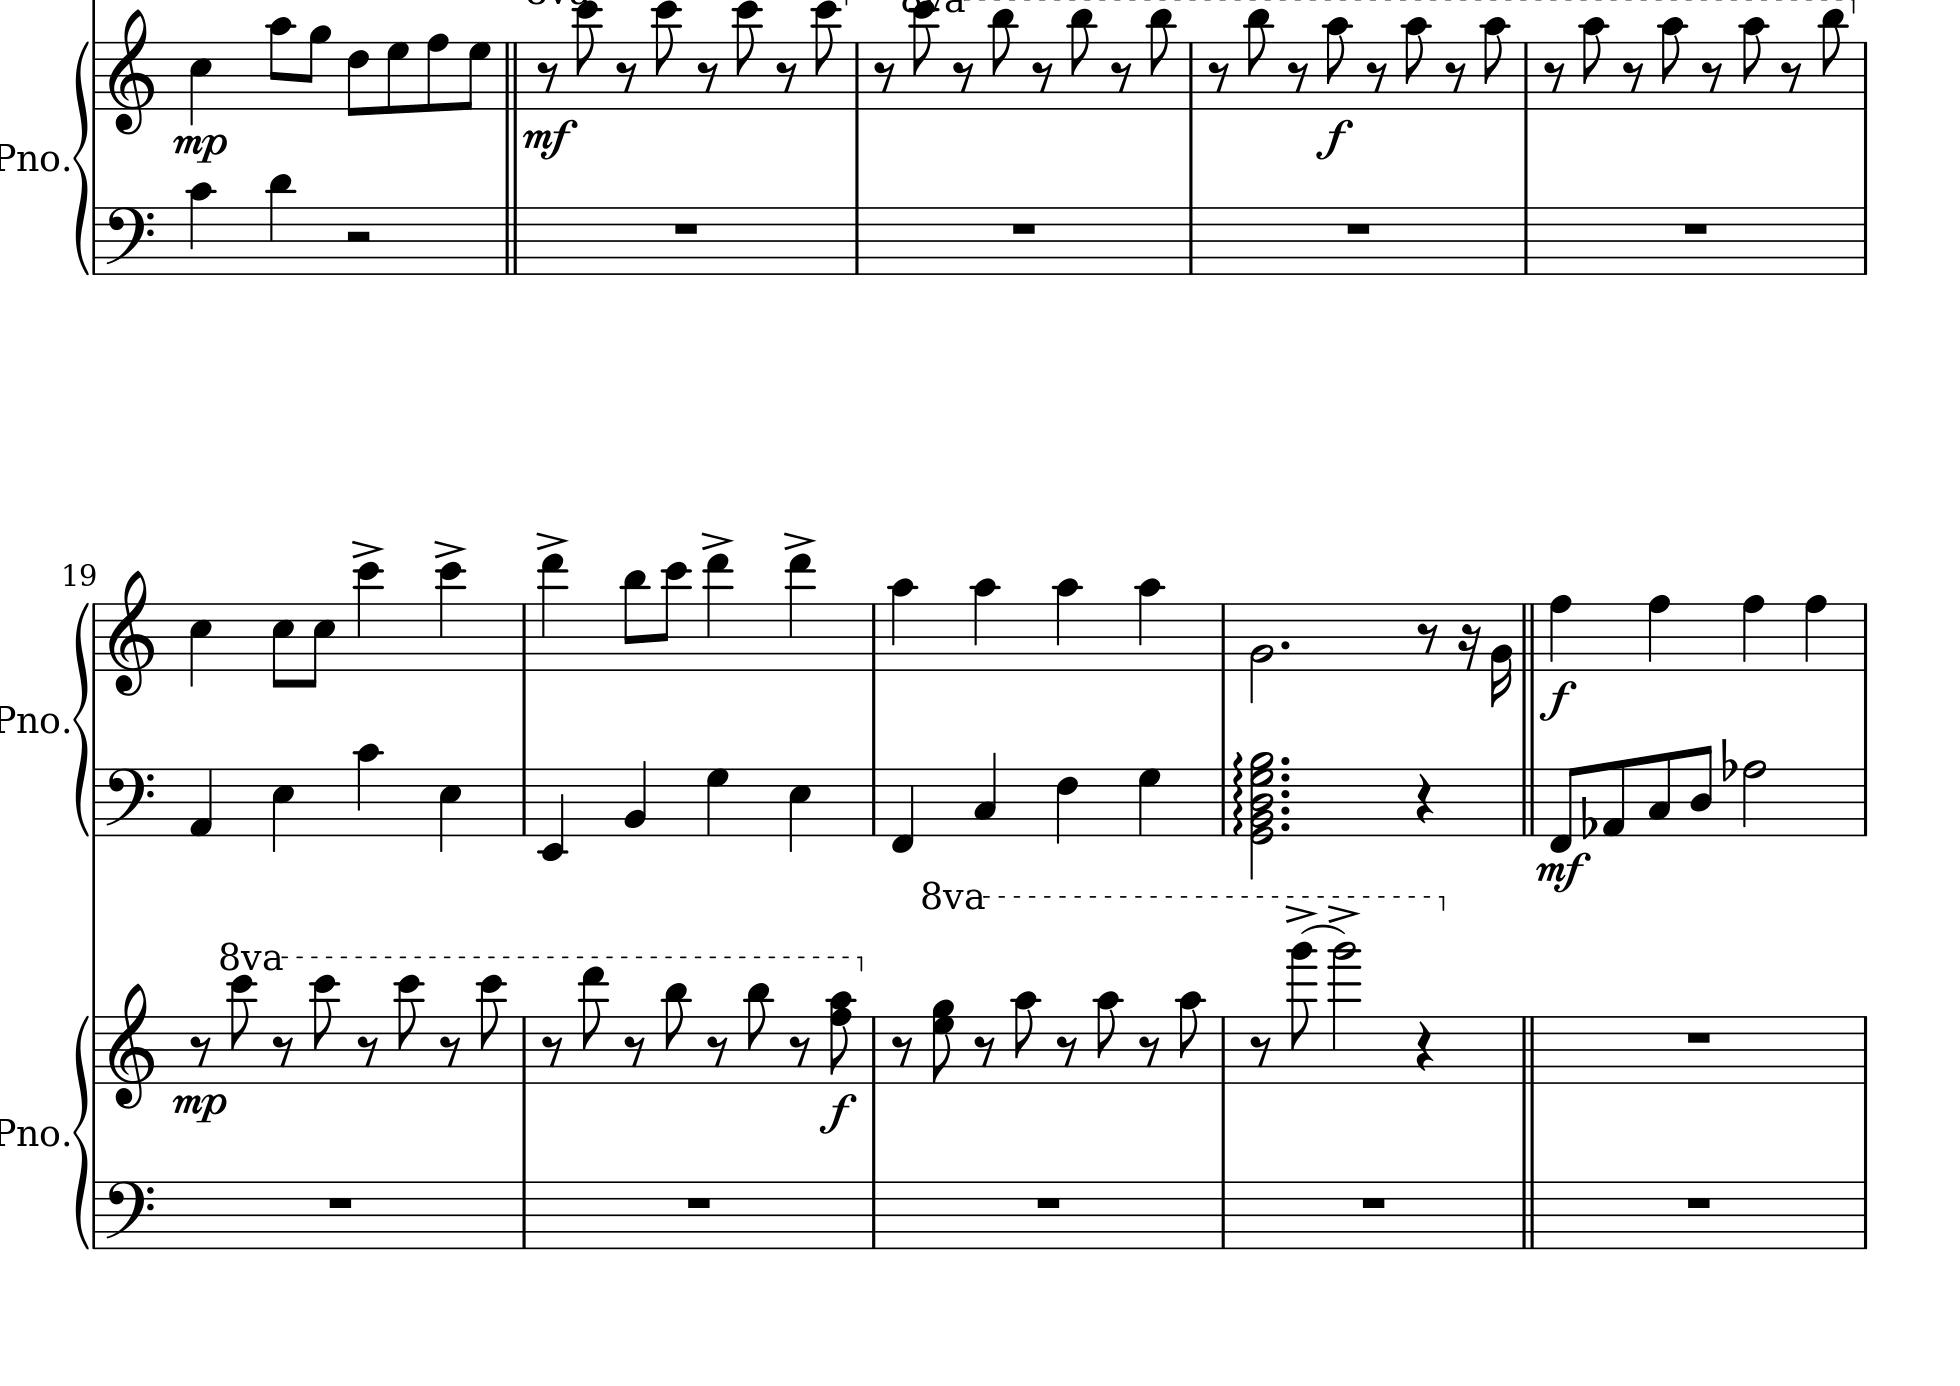1: (61, 559, 76, 588)
16_2: (1489, 601, 1515, 706)
2_16: (1329, 940, 1359, 1086)
2_2: (1249, 601, 1275, 703)
2_8: (1741, 756, 1770, 838)
4_-1: (889, 766, 916, 855)
4_-2: (538, 765, 567, 861)
4_1: (187, 766, 214, 837)
4_10: (184, 181, 216, 277), (1053, 576, 1083, 672), (354, 741, 382, 838), (970, 576, 999, 673), (1135, 576, 1164, 673), (889, 576, 916, 672)
4_11: (265, 171, 295, 277)
4_12: (352, 559, 382, 672), (436, 559, 465, 672)
4_13: (538, 552, 568, 673), (703, 552, 733, 672), (786, 553, 814, 673)
4_2: (622, 757, 649, 837)
4_3: (973, 750, 999, 837)
4_5: (436, 766, 463, 853), (786, 766, 813, 853), (187, 37, 213, 129), (187, 600, 213, 688), (271, 766, 295, 853)
4_6: (1054, 766, 1080, 846)
4_7: (703, 766, 730, 837), (1137, 766, 1164, 837)
4_8: (1741, 592, 1767, 673), (1803, 592, 1828, 673), (1647, 592, 1672, 672), (1548, 592, 1573, 670)
8_-1: (1548, 763, 1581, 852)
8_1: (1602, 756, 1629, 838)
8_10: (1401, 16, 1432, 112), (1093, 990, 1125, 1086), (1323, 16, 1354, 109), (1176, 991, 1207, 1084), (1579, 16, 1609, 112), (1740, 16, 1770, 112), (1011, 990, 1041, 1086), (1482, 16, 1512, 111), (1659, 16, 1687, 112), (265, 16, 294, 111)
8_11: (1068, 7, 1098, 112), (1147, 7, 1177, 111), (1245, 7, 1275, 111), (661, 982, 691, 1084), (742, 984, 772, 1086), (988, 7, 1017, 112), (1819, 7, 1848, 111), (622, 567, 649, 672)
8_12: (657, 559, 690, 672), (309, 976, 342, 1087), (811, 1, 843, 112), (393, 976, 424, 1087), (477, 978, 508, 1086), (226, 973, 256, 1086), (571, 1, 601, 112), (652, 1, 682, 112), (732, 1, 762, 112), (909, 4, 939, 114)
8_13: (579, 969, 609, 1086)
8_16: (1287, 940, 1318, 1086)
8_3: (1647, 751, 1674, 838)
8_4: (1689, 742, 1714, 838)
8_5: (304, 601, 336, 688), (270, 600, 295, 688)
8_6: (345, 39, 370, 118)
8_7: (460, 40, 492, 111), (384, 40, 409, 114)
8_8: (424, 31, 450, 112)
8_9: (301, 24, 331, 111)
9: (79, 559, 96, 588)
Accent_above: (781, 529, 817, 550), (699, 529, 733, 550), (1284, 901, 1318, 922), (535, 529, 568, 550), (351, 538, 384, 558), (433, 538, 466, 558), (1327, 903, 1360, 921)
Arpeggio: (1230, 750, 1248, 835)
Brace: (70, 600, 91, 835), (72, 1009, 91, 1249), (72, 39, 91, 274)
Double_barline: (1513, 1179, 1543, 1249), (496, 205, 526, 274), (1515, 1015, 1542, 1081), (1516, 768, 1542, 835), (499, 40, 523, 109), (1518, 601, 1542, 669)
Fclef: (103, 204, 154, 277), (103, 765, 154, 837), (103, 1177, 154, 1246)
Flat: (1720, 736, 1737, 784), (1581, 793, 1597, 840)
Gclef: (106, 981, 157, 1110), (106, 568, 156, 697), (106, 7, 154, 136)
Pno: (1, 139, 60, 174), (1, 702, 60, 736), (1, 1116, 61, 1147)
Rests1: (324, 1192, 355, 1212), (682, 1192, 715, 1210), (1683, 1027, 1714, 1045), (1033, 1192, 1065, 1210), (1683, 1192, 1714, 1210), (670, 219, 700, 237), (1344, 219, 1374, 237), (1359, 1192, 1389, 1210), (1009, 219, 1039, 235), (1680, 219, 1710, 235)
Rests16: (1458, 621, 1482, 672)
Rests2: (342, 228, 373, 244)
Rests4: (1413, 1018, 1437, 1074), (1414, 771, 1435, 826)
Rests8: (1416, 619, 1440, 655), (535, 58, 559, 93), (355, 1032, 379, 1066), (787, 1033, 811, 1068), (889, 1033, 913, 1068), (1110, 58, 1134, 91), (1287, 58, 1311, 91), (1365, 58, 1389, 91), (187, 1033, 211, 1066), (622, 1033, 646, 1066), (1207, 58, 1230, 93), (541, 1032, 562, 1068), (615, 58, 637, 91), (696, 58, 718, 91), (775, 58, 798, 91), (873, 58, 895, 91), (1032, 58, 1054, 91), (1444, 58, 1467, 91), (1543, 58, 1566, 91), (1701, 58, 1723, 91), (1780, 58, 1803, 91), (271, 1033, 294, 1066), (706, 1033, 729, 1066), (973, 1033, 996, 1066), (1056, 1033, 1078, 1066), (1138, 1033, 1161, 1066), (1249, 1033, 1272, 1066), (952, 58, 973, 91), (1623, 58, 1644, 91), (439, 1033, 460, 1065)
Single_barline: (864, 603, 883, 669), (847, 205, 865, 274), (1857, 601, 1875, 670), (1182, 207, 1200, 274), (514, 1180, 532, 1248), (1215, 603, 1233, 669), (1215, 766, 1231, 835), (514, 604, 532, 667), (1857, 40, 1873, 108), (1518, 207, 1534, 274), (1857, 768, 1873, 835), (1215, 1180, 1231, 1248), (865, 1180, 882, 1248), (1518, 40, 1534, 106), (516, 768, 532, 834), (865, 768, 882, 834), (1215, 1015, 1231, 1081), (1857, 207, 1872, 274), (1857, 1180, 1872, 1248), (849, 40, 864, 106), (516, 1015, 531, 1081), (865, 1015, 880, 1081), (88, 40, 102, 109), (88, 205, 102, 274), (1858, 1015, 1872, 1084), (88, 1180, 102, 1248), (1183, 40, 1197, 106), (88, 768, 102, 834), (88, 1015, 102, 1081), (88, 603, 100, 669)
Slur: (1300, 922, 1347, 936)
dot: (1278, 637, 1293, 652), (1278, 753, 1293, 766), (1278, 819, 1293, 832), (1278, 769, 1293, 781), (1278, 787, 1293, 799), (1278, 804, 1293, 816)
f: (1315, 118, 1354, 159), (1539, 679, 1578, 720), (817, 1093, 856, 1134)
mf: (522, 115, 579, 160), (1533, 850, 1591, 894)
mp: (169, 1090, 229, 1126), (169, 130, 229, 165)
